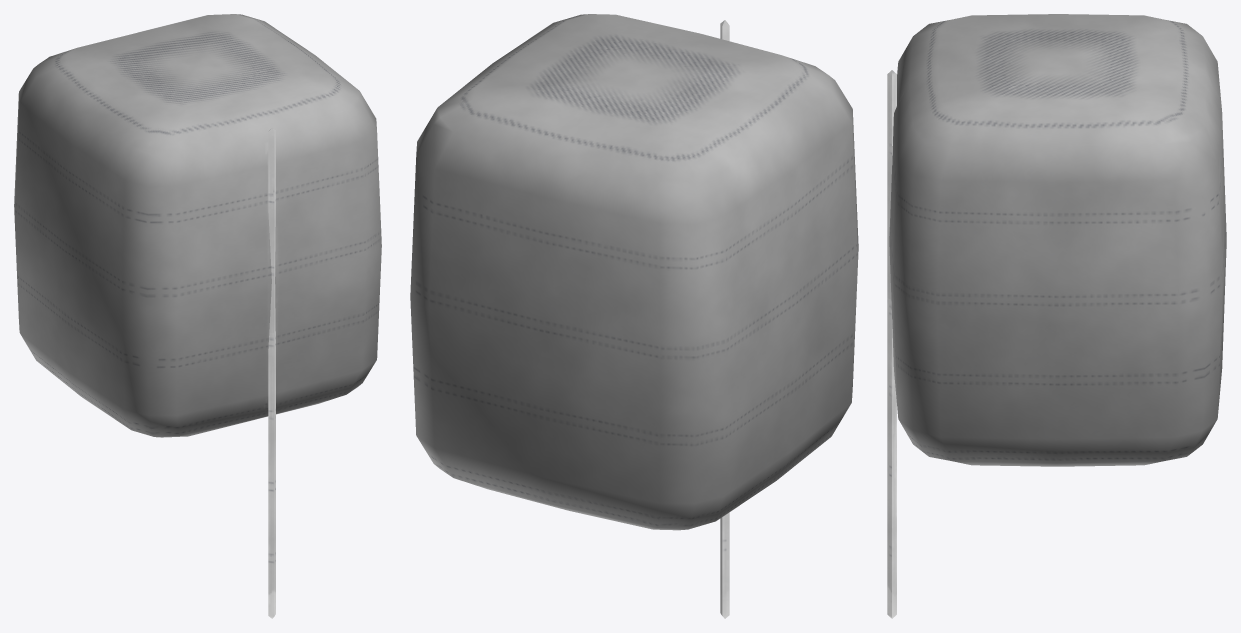
Rendered from LeftUpperLeg_C1.fbx.
The picture shows the model from 3 angles, left to right: view 1: azimuth 30°, elevation 25°; view 2: azimuth 150°, elevation 25°; view 3: azimuth 270°, elevation 25°; orthographic projection. The views are drawn at different scales.
Parts seen in each view (by area): view 1: Civ_PantalonVestir_LeftUpperLeg_C1; view 2: Civ_PantalonVestir_LeftUpperLeg_C1; view 3: Civ_PantalonVestir_LeftUpperLeg_C1.
Boxes of the visible parts, box(x1,y1,x2,y2) form: Civ_PantalonVestir_LeftUpperLeg_C1: box(14, 14, 381, 618); Civ_PantalonVestir_LeftUpperLeg_C1: box(410, 14, 858, 618); Civ_PantalonVestir_LeftUpperLeg_C1: box(887, 14, 1226, 618).
Bounding box in the file's own units: 1.24 × 2.23 × 1.23.
